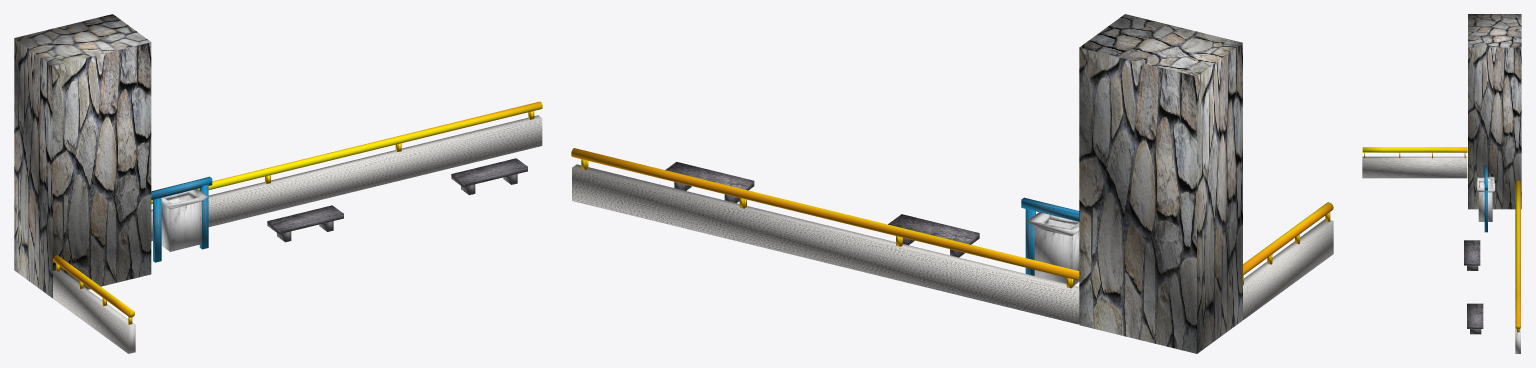
The model's file is banquitas4.obj.
3 renders of one model, left to right at view 1: azimuth 30°, elevation 25°; view 2: azimuth 150°, elevation 25°; view 3: azimuth 270°, elevation 25°, orthographic. The views are drawn at different scales.
Visible parts, largest first — view 1: Box030, Box015, Cylinder001, Box025, Box031, Box007, Box012, Cylinder003, Box034, Box033, Pyramid002, Box032; view 2: Box030, Box015, Cylinder001, Box025, Box031, Box007, Cylinder003, Box012, Pyramid002, Box034; view 3: Box030, Box025, Cylinder001, Cylinder003, Box007, Box012, Box031, Box015, Pyramid002, Box032.
Boxes of the visible parts, box(x1,y1,x2,y2) form: Box030: box(14, 14, 151, 298); Box015: box(151, 115, 542, 241); Cylinder001: box(151, 101, 542, 204); Box025: box(53, 269, 135, 353); Box031: box(161, 195, 201, 251); Box007: box(267, 205, 343, 234); Box012: box(451, 158, 527, 186); Cylinder003: box(53, 255, 134, 317); Box034: box(151, 176, 212, 199); Box033: box(153, 198, 161, 262); Pyramid002: box(161, 189, 207, 209); Box032: box(199, 184, 208, 249); Box030: box(1079, 14, 1242, 353); Box015: box(572, 164, 1079, 324); Cylinder001: box(571, 148, 1079, 280); Box025: box(1243, 219, 1333, 319); Box031: box(1034, 219, 1079, 285); Box007: box(888, 214, 979, 244); Cylinder003: box(1243, 202, 1333, 275); Box012: box(665, 162, 754, 190); Pyramid002: box(1027, 212, 1079, 236); Box034: box(1021, 197, 1079, 221); Box030: box(1468, 14, 1521, 209); Box025: box(1362, 156, 1467, 178); Cylinder001: box(1515, 180, 1520, 329); Cylinder003: box(1362, 147, 1467, 152); Box007: box(1464, 240, 1480, 265); Box012: box(1467, 303, 1483, 328); Box031: box(1478, 182, 1492, 221); Box015: box(1515, 191, 1520, 353); Pyramid002: box(1476, 176, 1494, 192); Box032: box(1484, 190, 1487, 232).
Bounding box in the file's own units: 260 × 110 × 98.05.
Materials: 6 (6 with a texture image).
